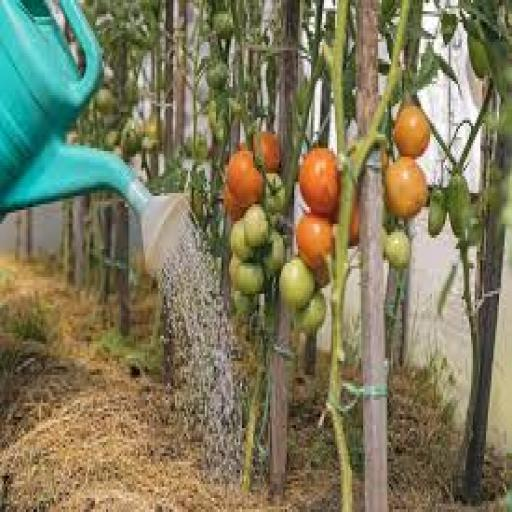tomato: (384, 157, 428, 218), (300, 149, 340, 215), (393, 104, 430, 159), (297, 213, 333, 268), (228, 152, 264, 207), (280, 258, 314, 310), (447, 174, 471, 240), (295, 291, 327, 335), (254, 132, 281, 173), (244, 205, 269, 249), (384, 230, 411, 268), (235, 263, 264, 296), (265, 230, 286, 274), (265, 174, 286, 215), (468, 37, 489, 78), (231, 222, 253, 260), (429, 188, 446, 237), (224, 188, 245, 221), (122, 121, 141, 156), (207, 62, 229, 89), (233, 291, 256, 316), (213, 12, 234, 39), (95, 87, 115, 114), (349, 199, 359, 246), (313, 263, 329, 288), (230, 255, 242, 282), (105, 129, 119, 151)
